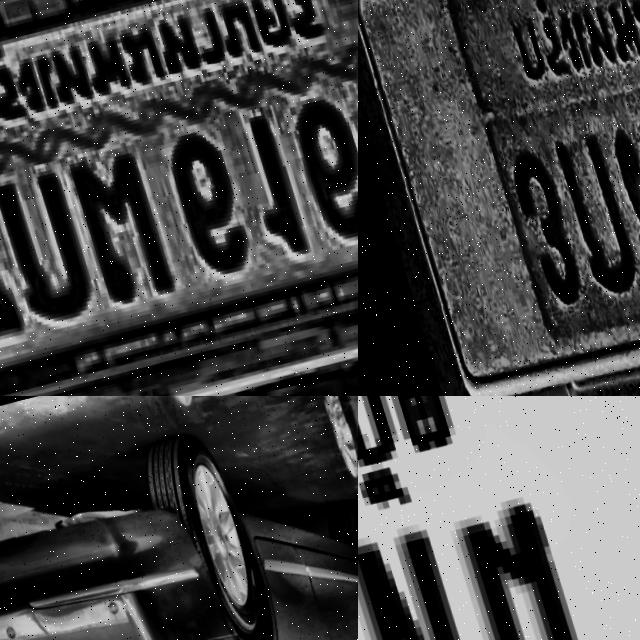license-plate: (0, 0, 358, 396), (358, 0, 640, 396), (358, 396, 640, 640)
